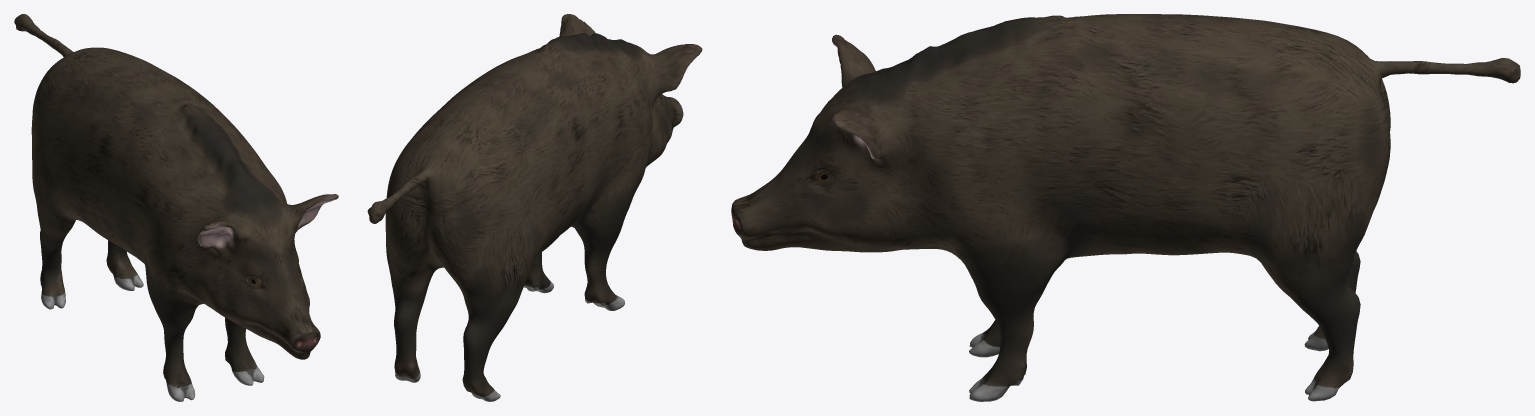
Rendered from boar.glb.
The picture shows the model from 3 angles, left to right: view 1: azimuth 30°, elevation 25°; view 2: azimuth 150°, elevation 25°; view 3: azimuth 270°, elevation 25°; orthographic projection. The views are drawn at different scales.
Parts seen in each view (by area): view 1: Pig_low; view 2: Pig_low; view 3: Pig_low.
Part boxes in pixels (x1=…): Pig_low: x1=14, y1=14, x2=338, y2=401; Pig_low: x1=367, y1=14, x2=702, y2=401; Pig_low: x1=731, y1=14, x2=1520, y2=401.
Bounding box in the file's own units: 11.52 × 21.62 × 43.14.
Materials: 1 (1 with a texture image).
